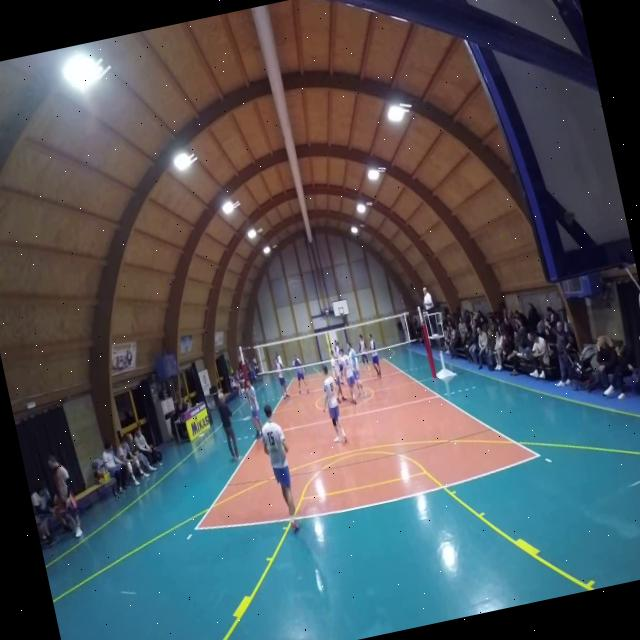serve: (250, 395, 312, 539)
